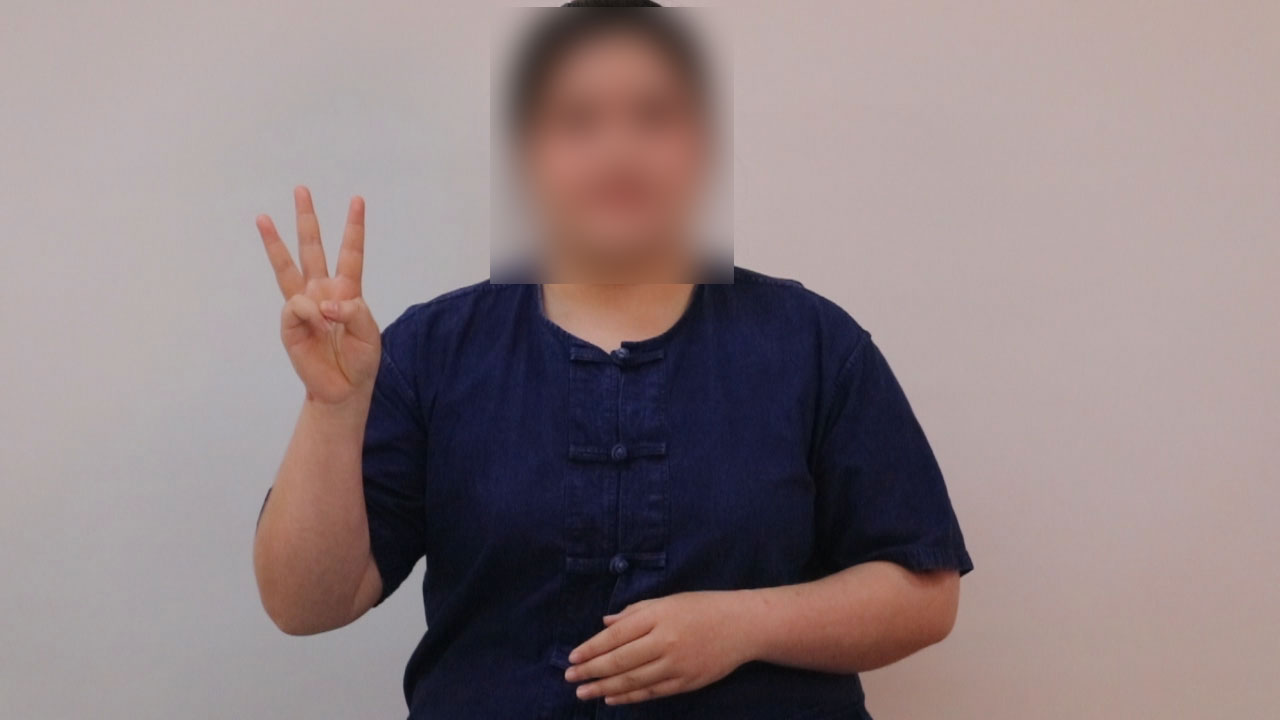wor: (249, 176, 391, 406)
